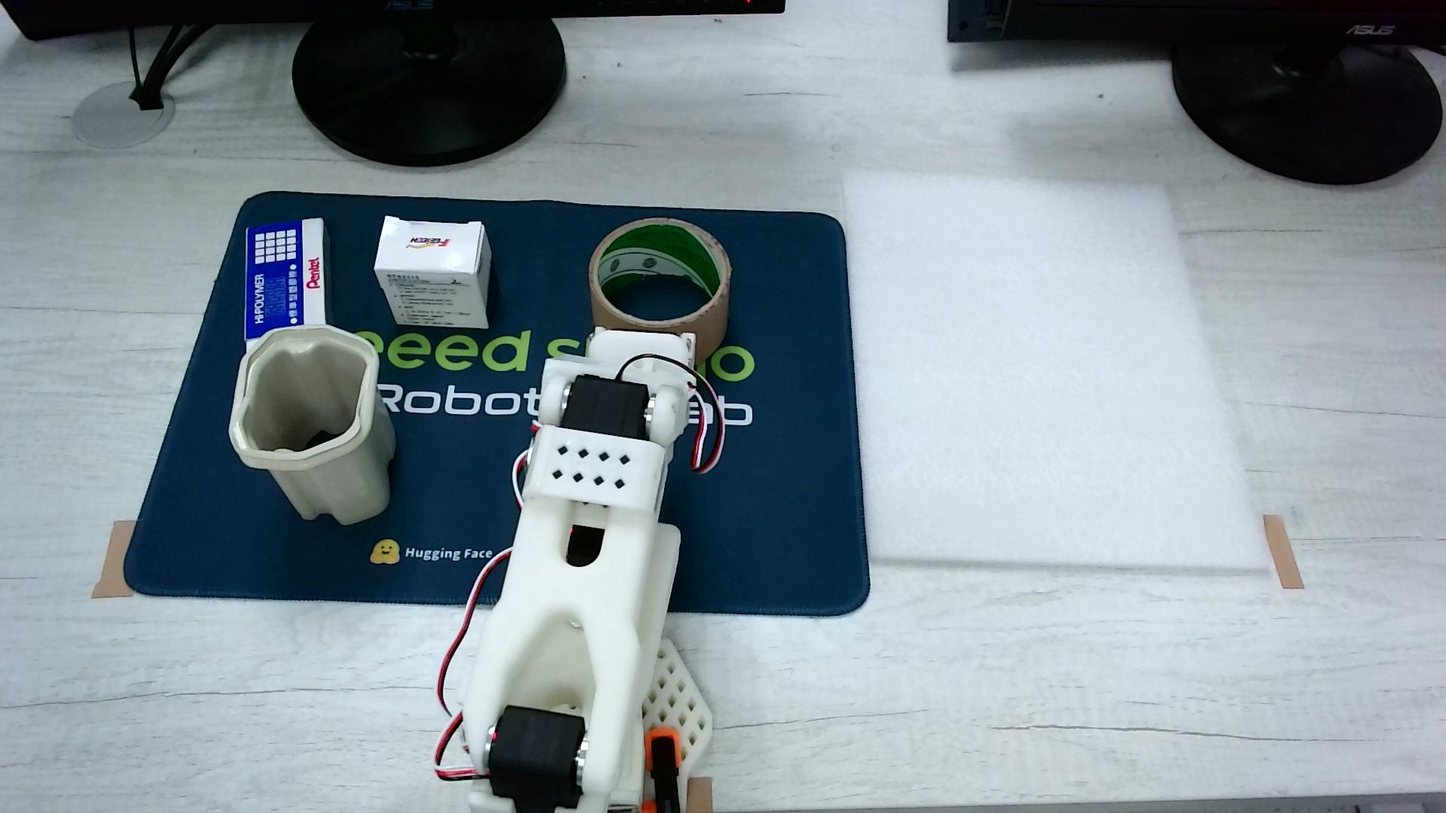eraser: (374, 216, 490, 329)
